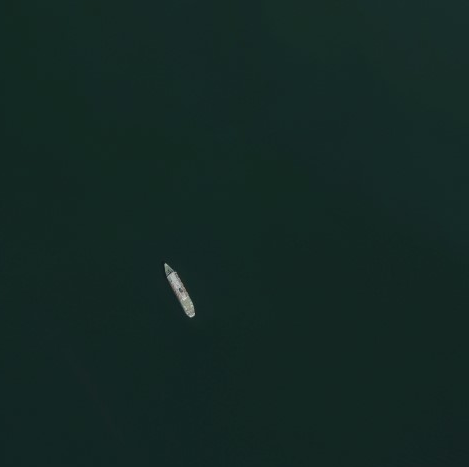ship: (159, 261, 203, 320)
